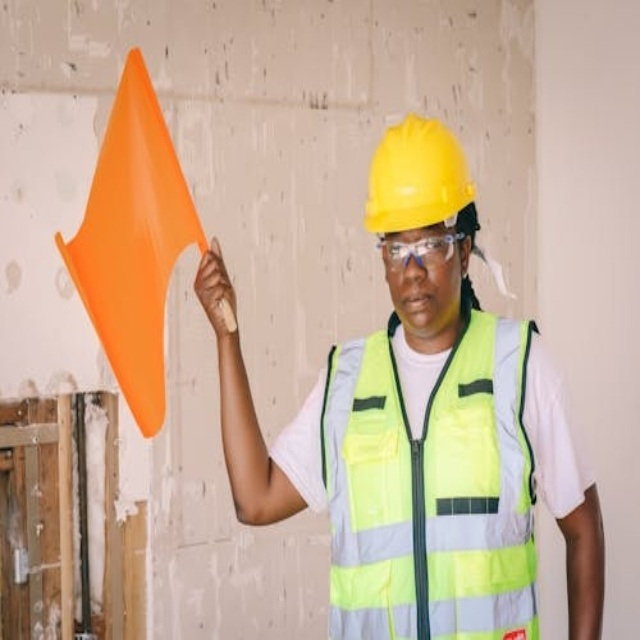Gafas: (377, 232, 464, 268)
Sin_guantes: (196, 234, 239, 341)
Sin_mascara: (393, 285, 436, 331)
